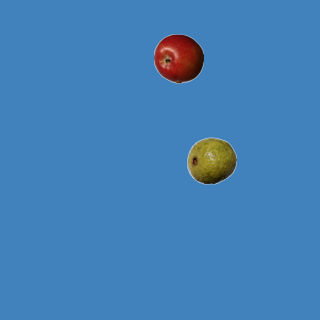Apple Braeburn: (153, 33, 203, 83)
Guava: (186, 135, 236, 185)
